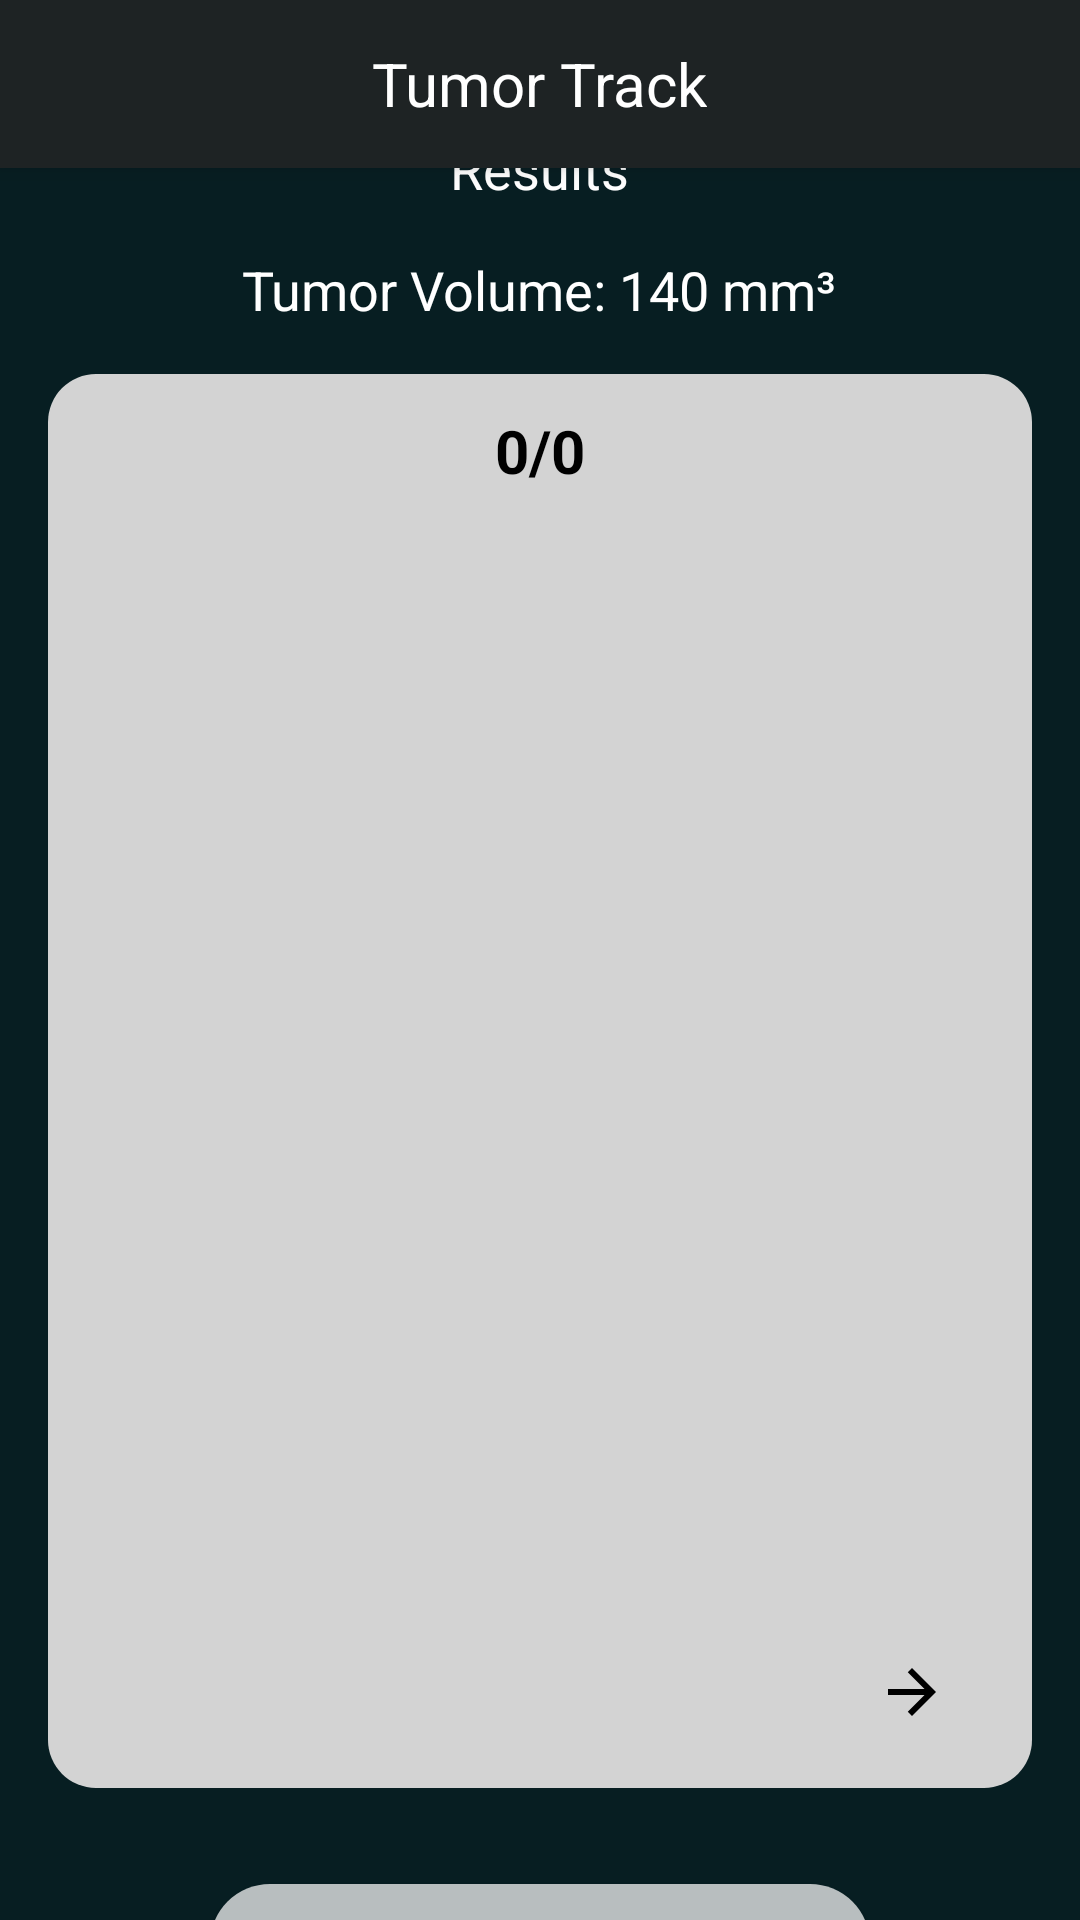

Icons on this 1080×1920 Android screen, each with the point to tap as point (x, y):
right arrow: point (912, 1692)
